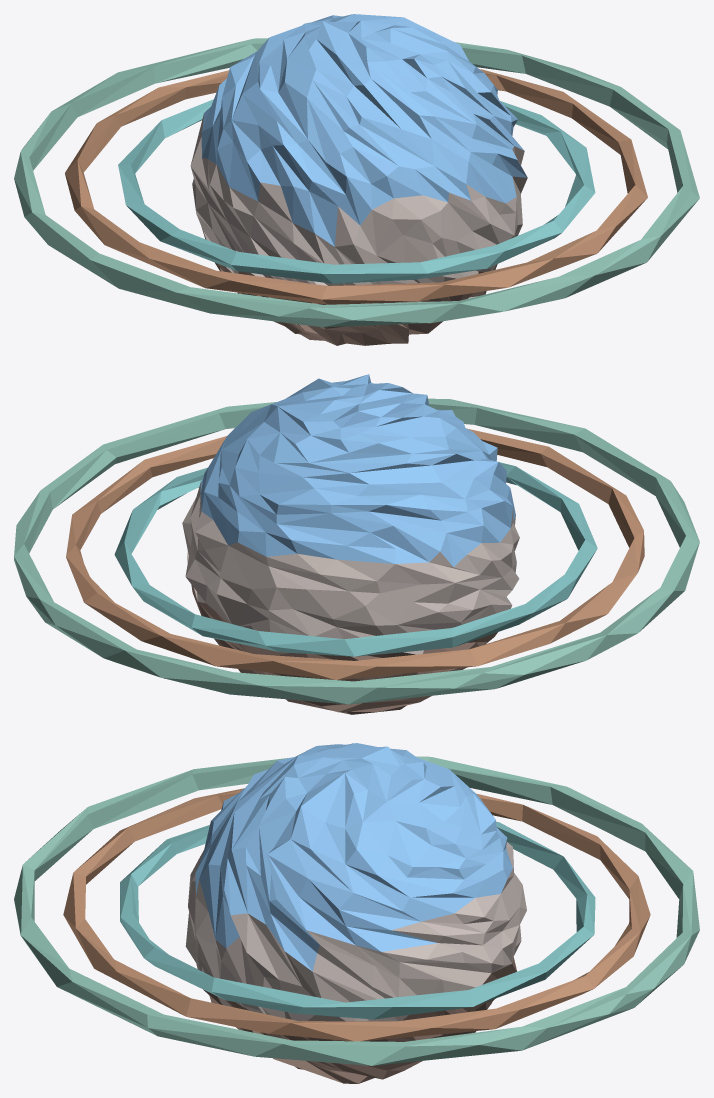
Rendered from Saturn.obj.
3 renders of one model, top to bottom at view 1: azimuth 30°, elevation 25°; view 2: azimuth 150°, elevation 25°; view 3: azimuth 270°, elevation 25°, orthographic.
Parts seen in each view (by area): view 1: Saturn; view 2: Saturn; view 3: Saturn.
Boxes of the visible parts, x1=… form: Saturn: x1=14, y1=14, x2=699, y2=345; Saturn: x1=14, y1=374, x2=699, y2=714; Saturn: x1=14, y1=743, x2=699, y2=1083.
Bounding box in the file's own units: 76.1 × 37.79 × 75.78.
